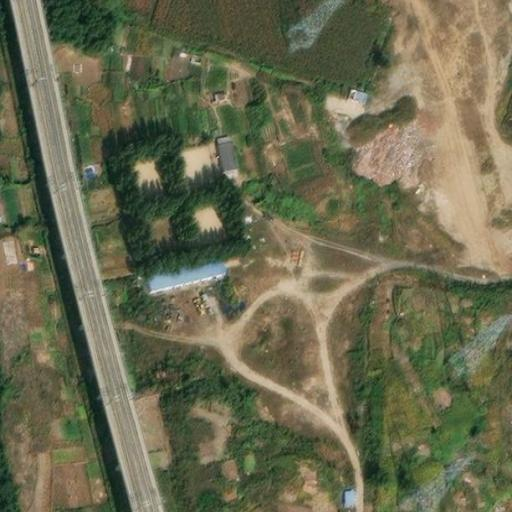building: (144, 251, 225, 287), (213, 127, 242, 164), (345, 85, 369, 106), (339, 486, 357, 507)
